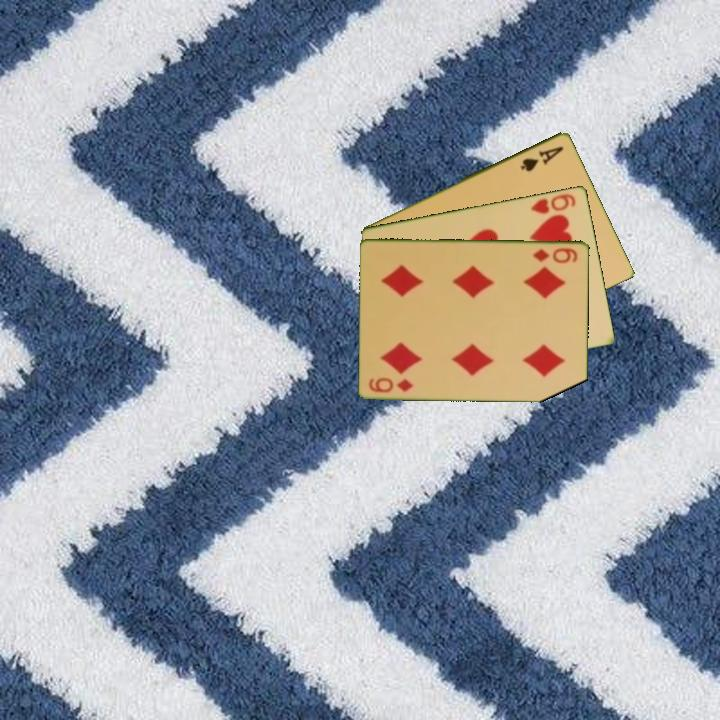6d: (530, 244, 580, 266), (365, 374, 416, 395)
6h: (528, 190, 579, 216)
As: (517, 142, 567, 174)
